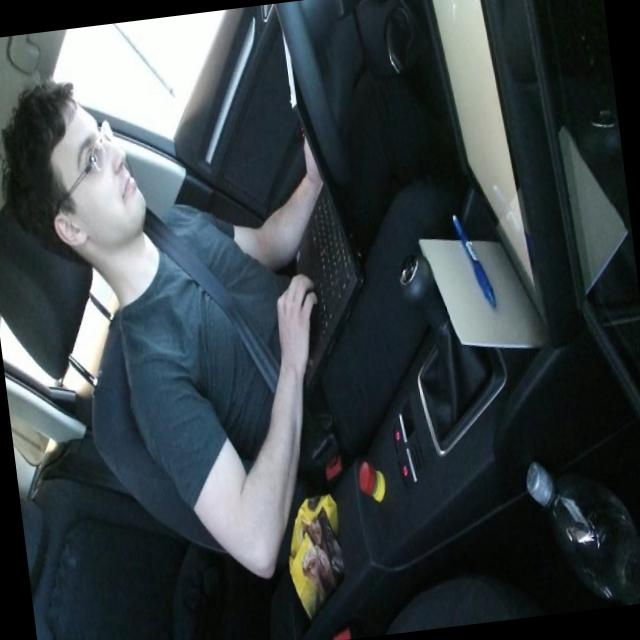pen: (449, 206, 497, 312)
